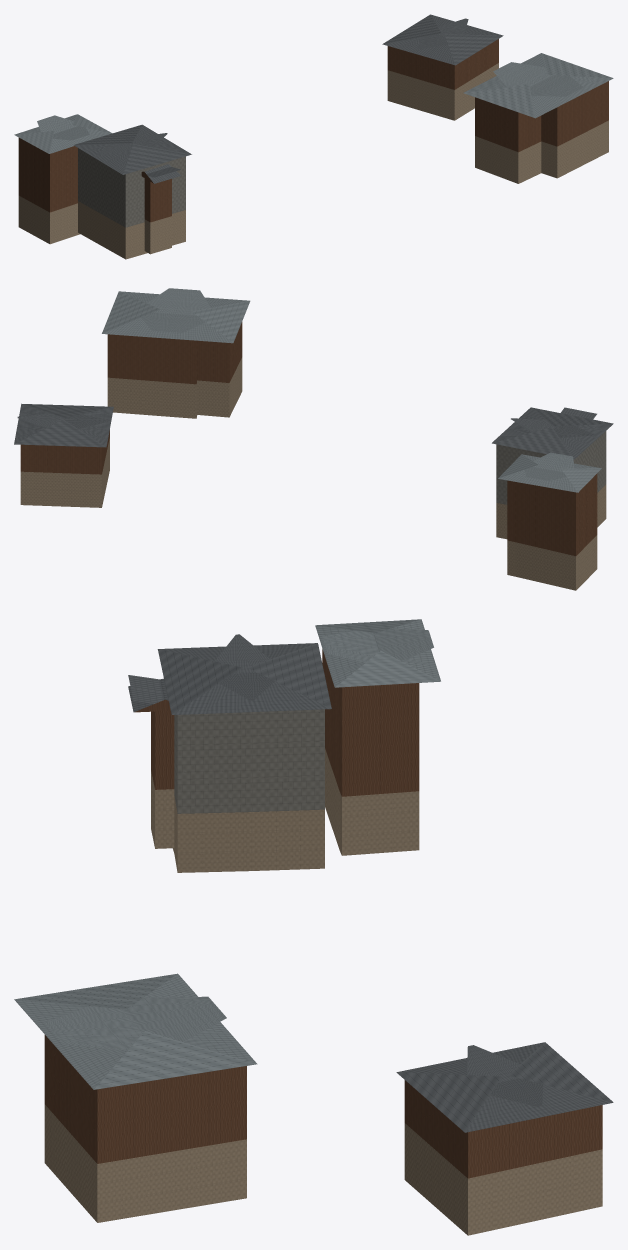
File: bld_c22_31_377.gltf
3 renders of one model, top to bottom at view 1: azimuth 30°, elevation 25°; view 2: azimuth 150°, elevation 25°; view 3: azimuth 270°, elevation 25°, orthographic. The views are drawn at different scales.
Parts seen in each view (by area): view 1: bld_c22_31_377; view 2: bld_c22_31_377; view 3: bld_c22_31_377.
Boxes of the visible parts, x1,y1,x2,y2 form: bld_c22_31_377: (14,14,613,259); bld_c22_31_377: (14,288,613,590); bld_c22_31_377: (14,619,613,1235).
Bounding box in the file's own units: 85.96 × 16.2 × 46.99.
6 materials, 6 textured.
